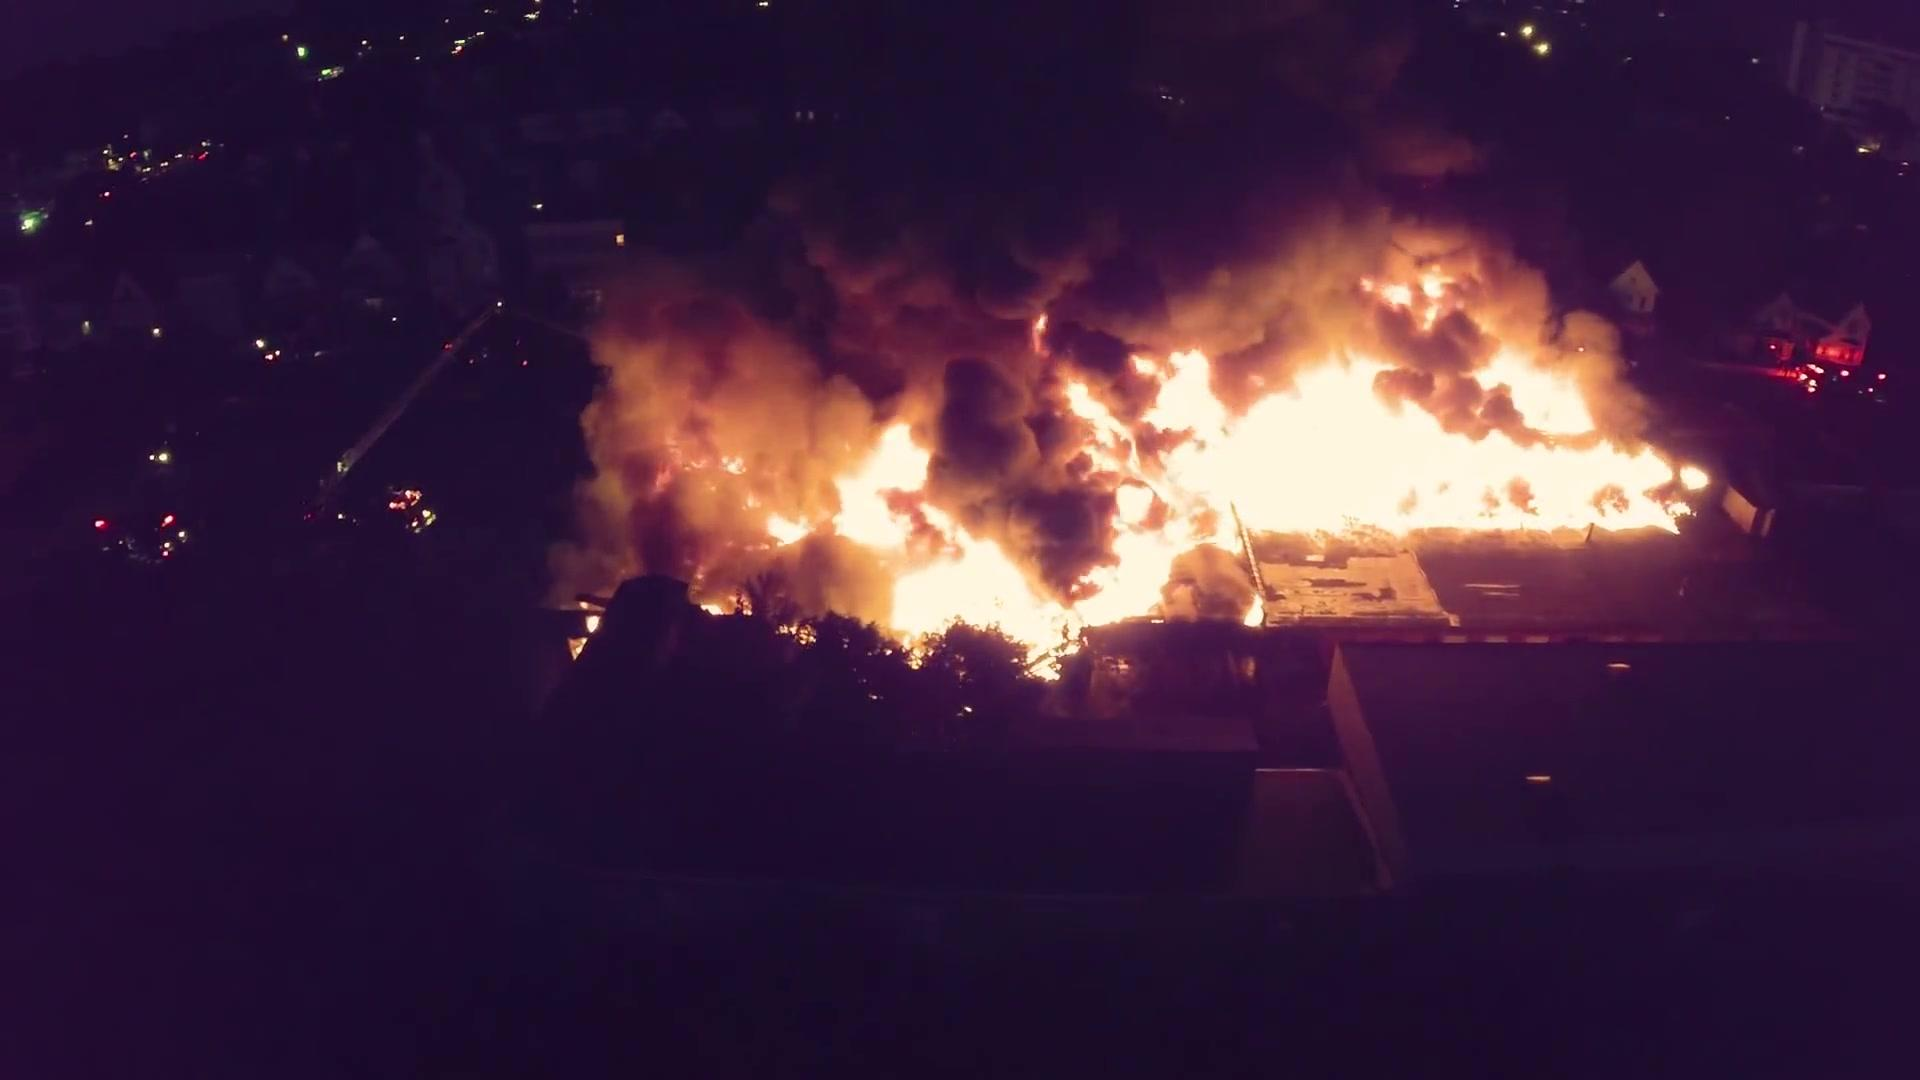fire: (579, 187, 1797, 670)
